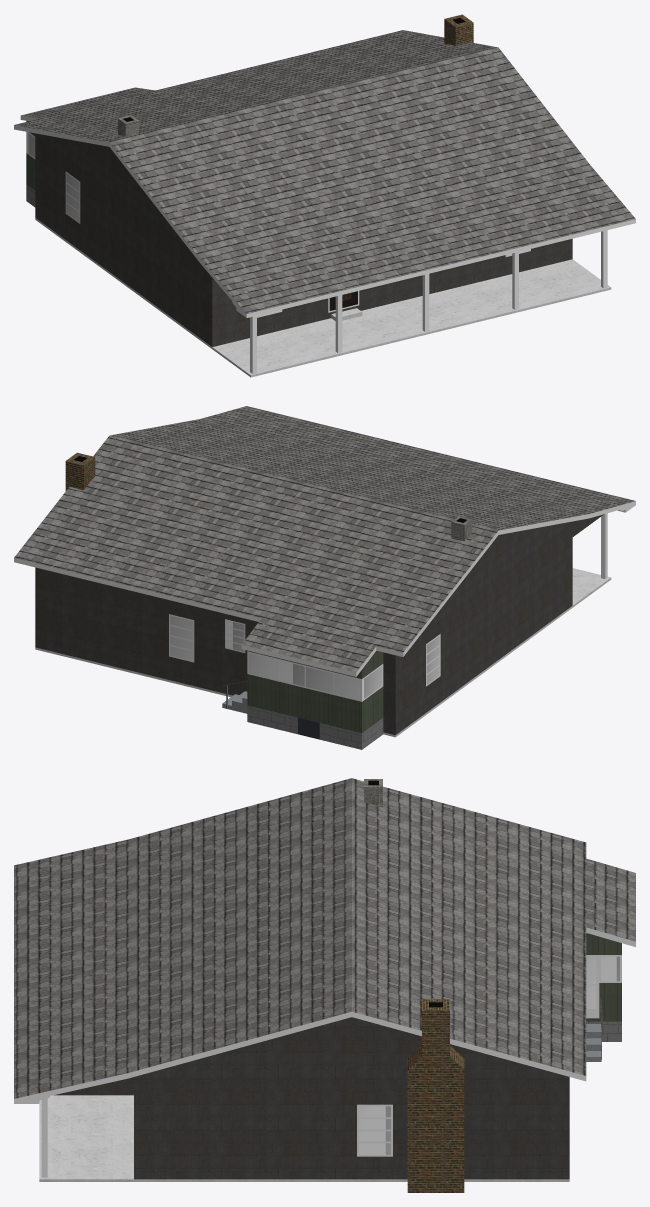
File: byers_house.glb
3 views of the same model, one above another, from view 1: azimuth 30°, elevation 25°; view 2: azimuth 150°, elevation 25°; view 3: azimuth 270°, elevation 25° (orthographic). The views are drawn at different scales.
Parts seen in each view (by area): view 1: Material2 (×6); view 2: Material2 (×8); view 3: Material2 (×8).
Part boxes in pixels (x1=…): Material2 (×6): x1=14, y1=14, x2=635, y2=377; Material2 (×8): x1=14, y1=406, x2=635, y2=749; Material2 (×8): x1=14, y1=778, x2=635, y2=1192.
Size of the model in its own units: 580 by 219 by 646.
16 materials, 14 textured.
